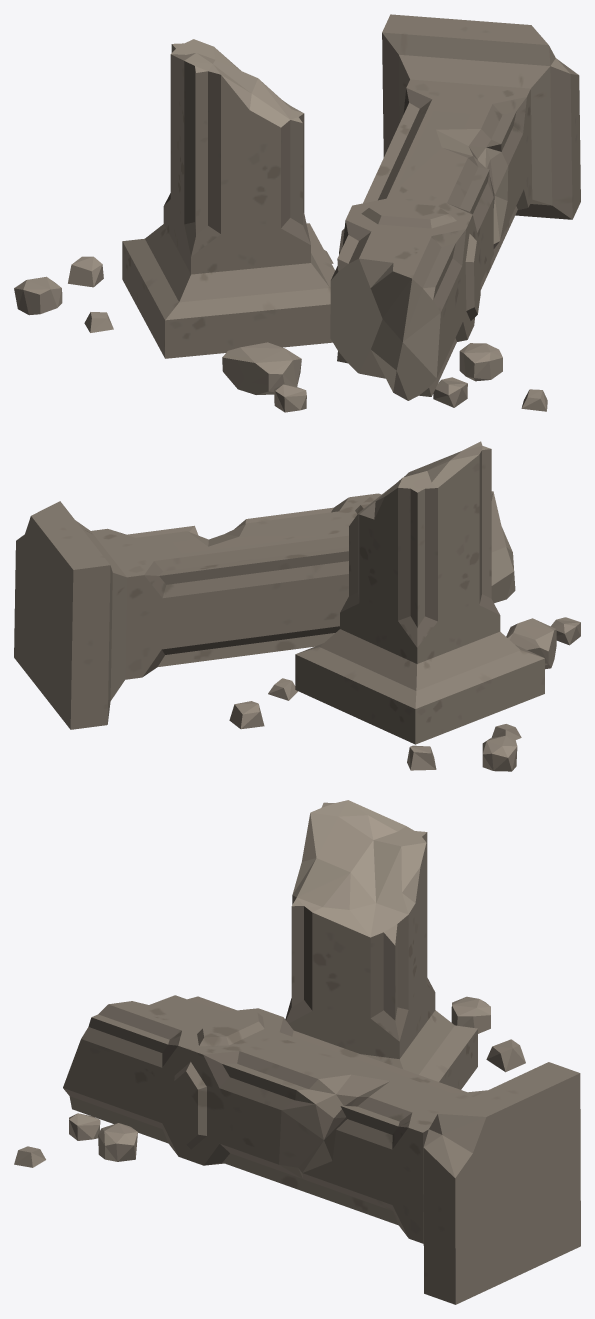
File: pit_rubble_pillar.gltf
The picture shows the model from 3 angles, top to bottom: view 1: azimuth 30°, elevation 25°; view 2: azimuth 150°, elevation 25°; view 3: azimuth 270°, elevation 25°; orthographic projection. The views are drawn at different scales.
Visible parts, largest first — view 1: pit_rubble_pillar; view 2: pit_rubble_pillar; view 3: pit_rubble_pillar.
Part boxes in pixels (x1,y1,x2,y2): pit_rubble_pillar: (14,14,580,412); pit_rubble_pillar: (14,441,580,771); pit_rubble_pillar: (14,800,580,1304).
Size of the model in its own units: 4.12 by 2.09 by 3.71.
Materials: 1 (1 with a texture image).
